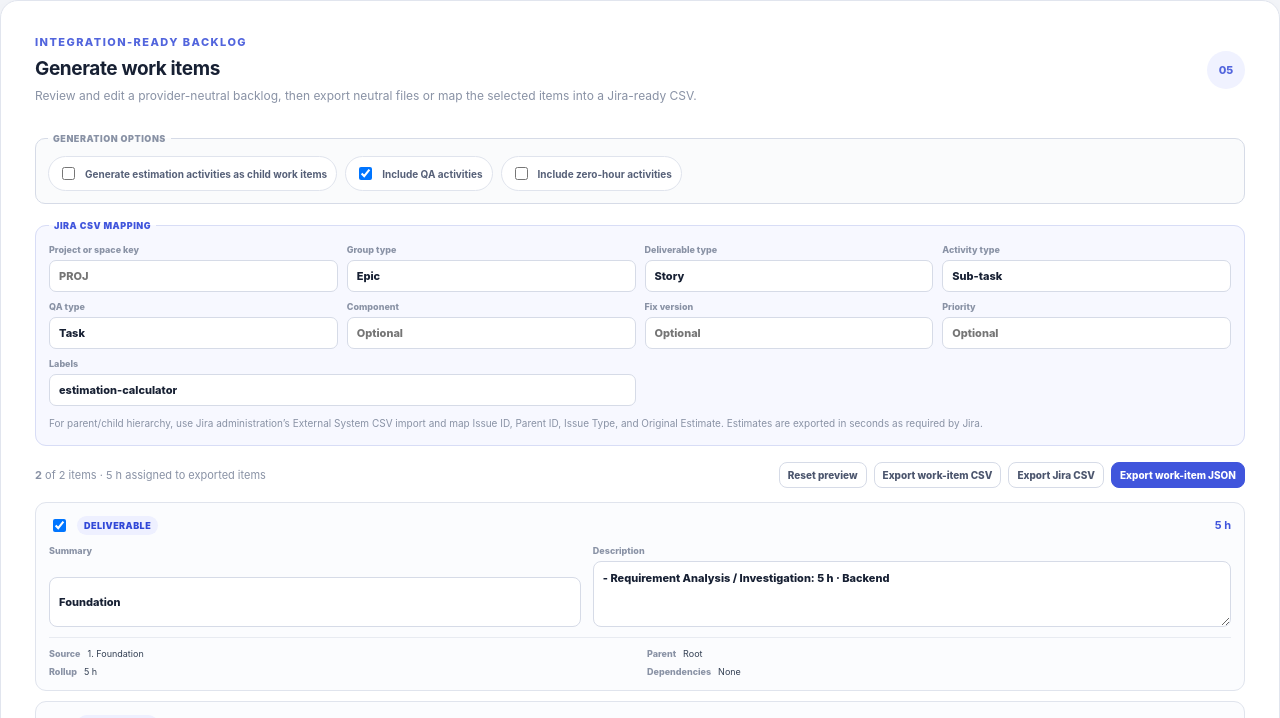
WorkItemGenerationPanel › previews neutral deliverables and supports local editing and exclusion
This screenshot has width=1280, height=718.
Expected: the element with class "work-item-toolbar" shows "2 of 2 items", [35,462,1245,488]
Replace the text in the field named "Work item 1 summary" with "Platform foundation": (315,602) [49,576,581,626]
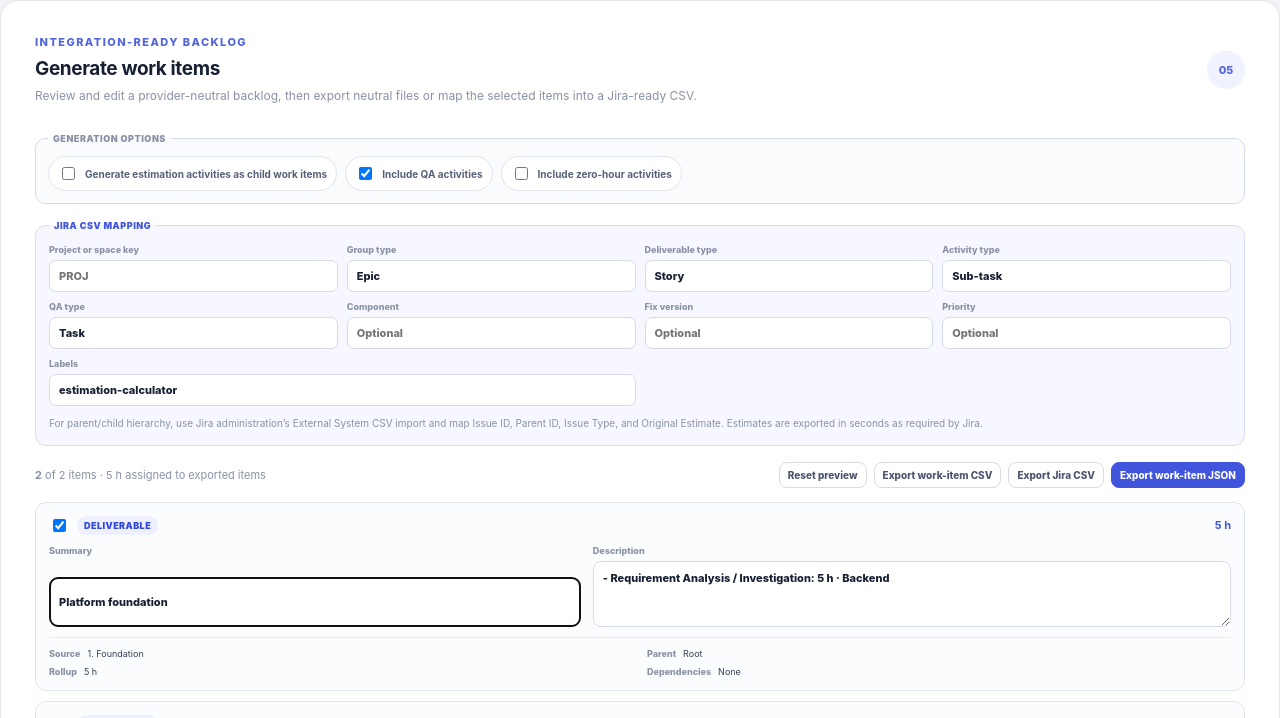
Click the checkbox named "Include work item 1": (60,525) [53,518,66,532]
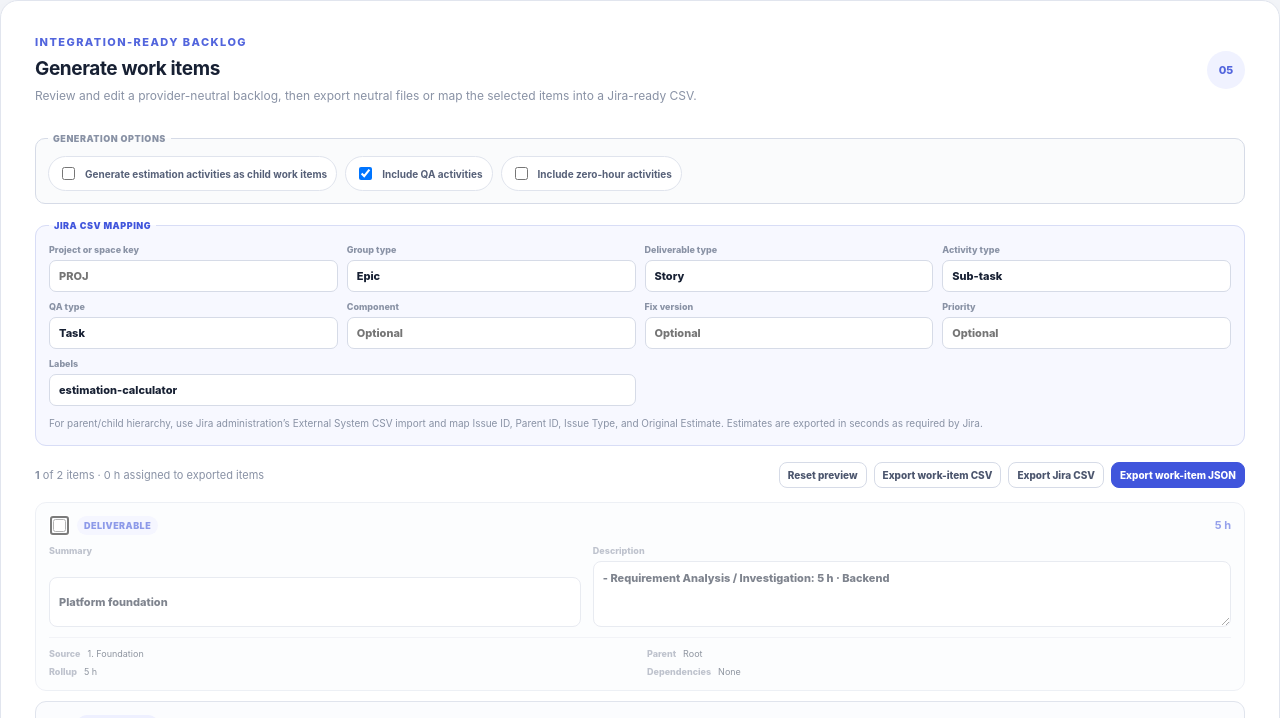
Result: the field named "Work item 1 summary" is disabled at [49,576,581,626]
Result: the element with class "work-item-toolbar" shows "1 of 2 items" at [35,462,1245,488]
Click the button "Reset preview": (823,474) [779,462,866,488]
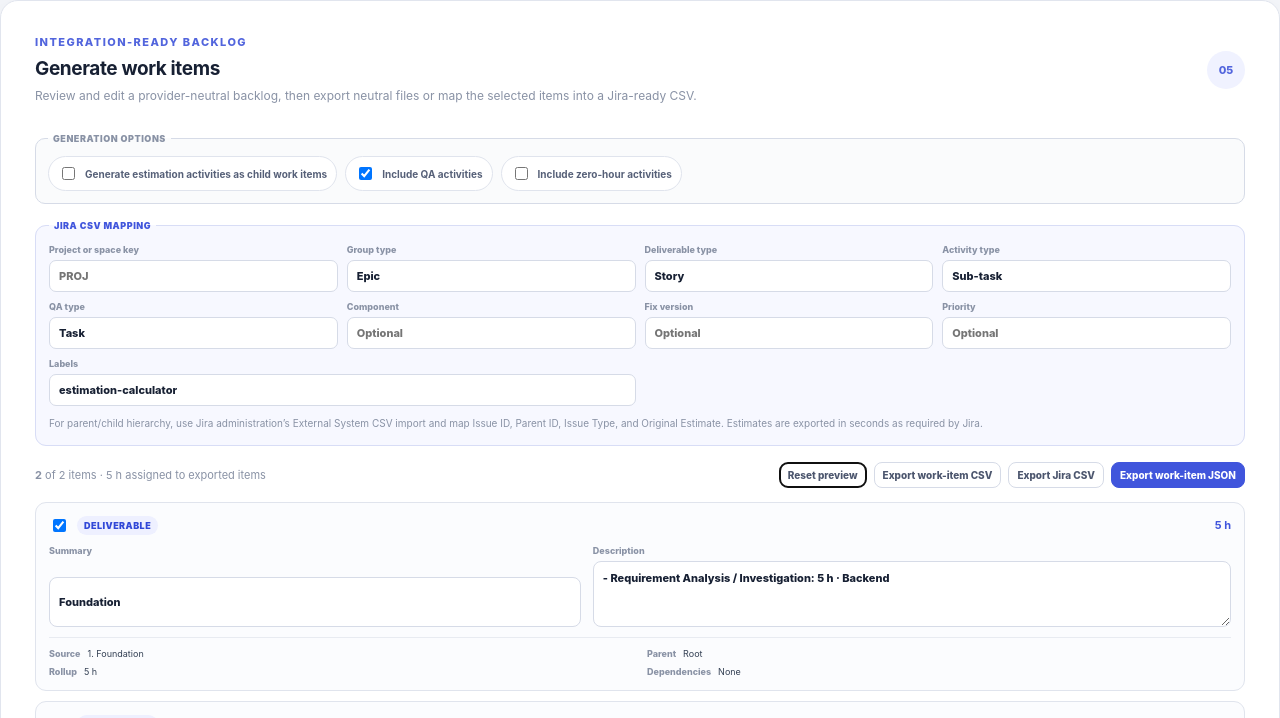
Result: the field named "Work item 1 summary" holds "Foundation" at [49,576,581,626]
Result: the element with class "work-item-toolbar" shows "2 of 2 items" at [35,462,1245,488]
